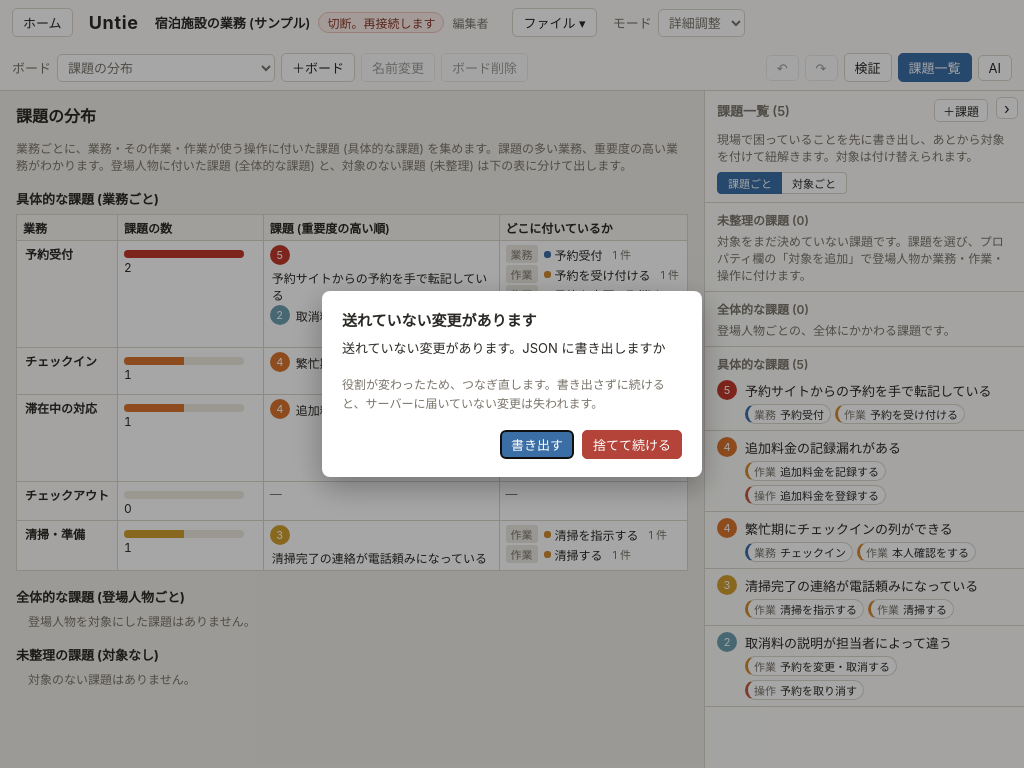
it: CloudEditor: 役割が変わったとき (4001) › 送れていない変更があるとき › つなぎ直す前に「JSON に書き出しますか」と聞く。「捨てて続ける」でそのままつなぎ直す
Check: the dialog "送れていない変更" shows "送れていない変更があります。JSON に書き出しますか", box left=342, top=340, right=666, bottom=356
Click the button "捨てて続ける". click: x=632, y=444
box: left=582, top=430, right=682, bottom=459
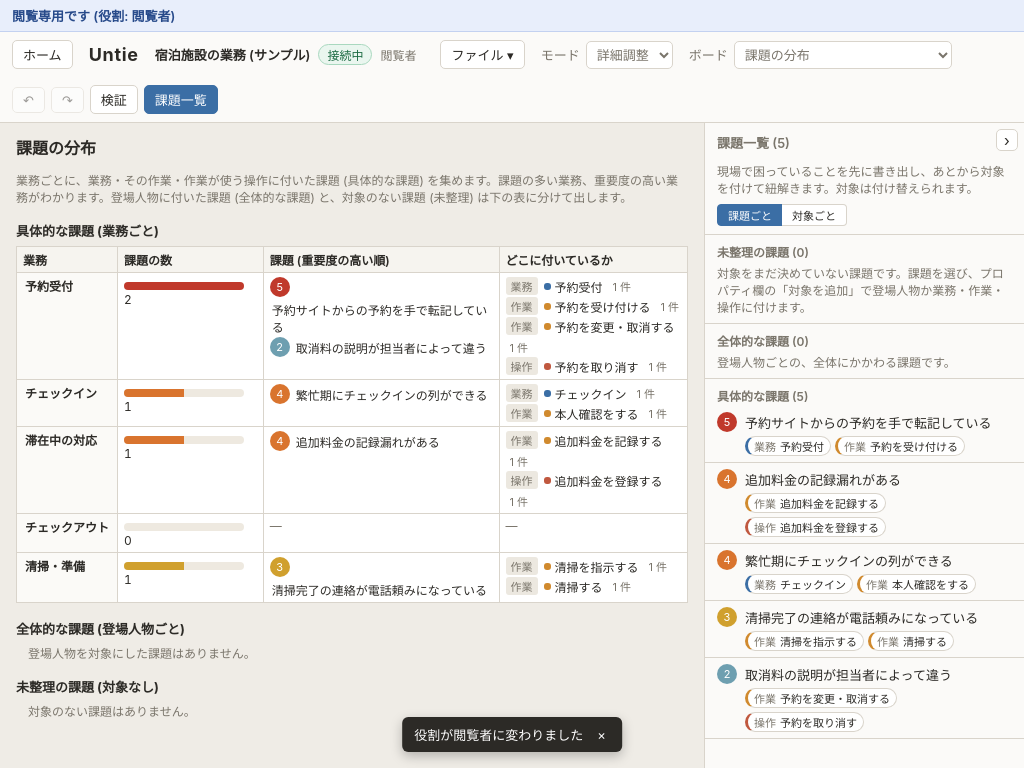
Check: the heading "送れていない変更" is gone
